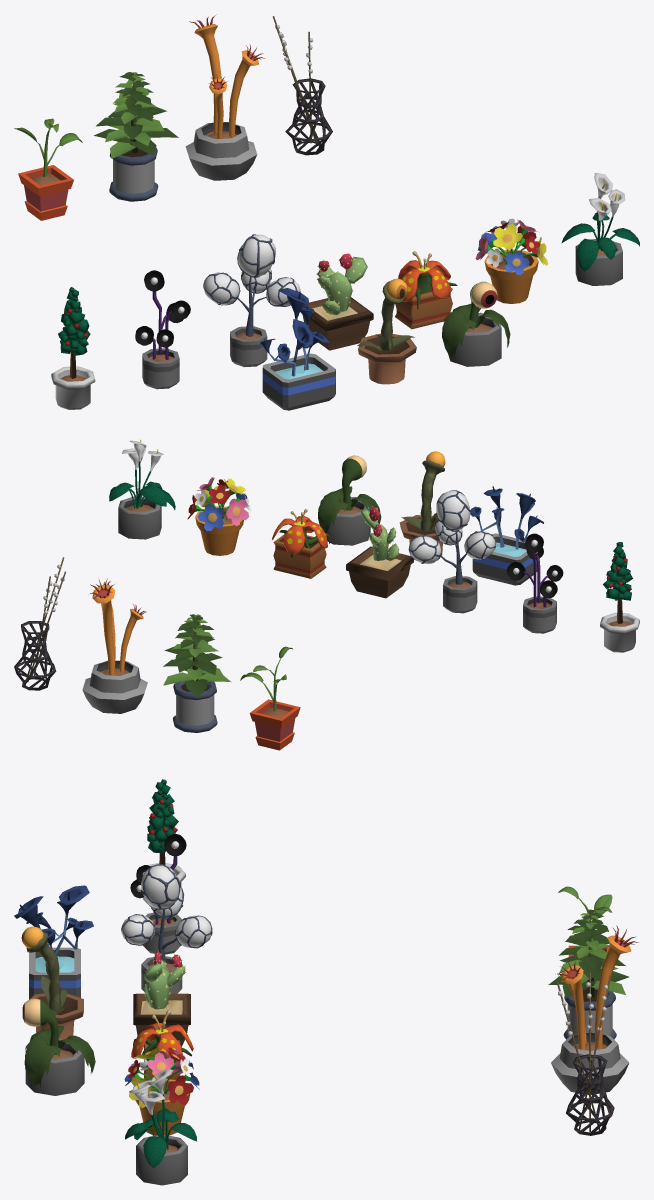
File: PottedPlants.fbx
The picture shows the model from 3 angles, top to bottom: view 1: azimuth 30°, elevation 25°; view 2: azimuth 150°, elevation 25°; view 3: azimuth 270°, elevation 25°; orthographic projection. The views are drawn at different scales.
Parts seen in each view (by area): view 1: Plant0, PlantExotic1, Plant9, Plant19, Plant11, Plant15, Plant36B, Plant31, Plant14, Plant36, Plant7, Plant6 (+2 smaller); view 2: Plant0, Plant9, PlantExotic1, Plant11, Plant15, Plant31, Plant36B, Plant19, Plant14, Plant7, Plant6, PlantSapling (+2 smaller); view 3: PlantExotic1, Plant36B, Plant9, Plant31, Plant0, Plant19, Plant11, Plant15, PlantDecortive1, Plant36, Plant6, Plant7 (+1 smaller).
Part boxes in pixels (bbox=[...]): Plant0: bbox=[94, 72, 178, 201]; PlantExotic1: bbox=[185, 14, 264, 180]; Plant9: bbox=[203, 234, 300, 367]; Plant19: bbox=[260, 288, 335, 410]; Plant11: bbox=[302, 253, 373, 350]; Plant15: bbox=[475, 218, 547, 303]; Plant36B: bbox=[442, 281, 510, 366]; Plant31: bbox=[561, 173, 639, 285]; Plant14: bbox=[395, 251, 457, 329]; Plant36: bbox=[357, 278, 416, 384]; Plant7: bbox=[135, 270, 190, 389]; Plant6: bbox=[51, 287, 95, 409]; Plant0: bbox=[163, 614, 231, 732]; Plant9: bbox=[408, 490, 495, 613]; PlantExotic1: bbox=[82, 578, 147, 713]; Plant11: bbox=[346, 506, 413, 598]; Plant15: bbox=[187, 477, 251, 555]; Plant31: bbox=[109, 439, 175, 539]; Plant36B: bbox=[318, 455, 381, 545]; Plant19: bbox=[470, 486, 543, 585]; Plant14: bbox=[272, 509, 330, 578]; Plant7: bbox=[507, 533, 563, 633]; Plant6: bbox=[600, 542, 639, 652]; PlantSapling: bbox=[240, 646, 300, 750]; PlantExotic1: bbox=[551, 925, 638, 1094]; Plant36B: bbox=[22, 998, 95, 1095]; Plant9: bbox=[121, 864, 212, 993]; Plant31: bbox=[125, 1069, 197, 1185]; Plant0: bbox=[548, 909, 628, 1039]; Plant19: bbox=[14, 885, 93, 999]; Plant11: bbox=[133, 950, 190, 1046]; Plant15: bbox=[124, 1046, 199, 1135]; PlantDecortive1: bbox=[556, 972, 614, 1135]; Plant36: bbox=[21, 926, 83, 1039]; Plant6: bbox=[143, 779, 185, 906]; Plant7: bbox=[130, 834, 186, 954].
Size of the model in its own units: 6.64 by 1.61 by 5.85.
